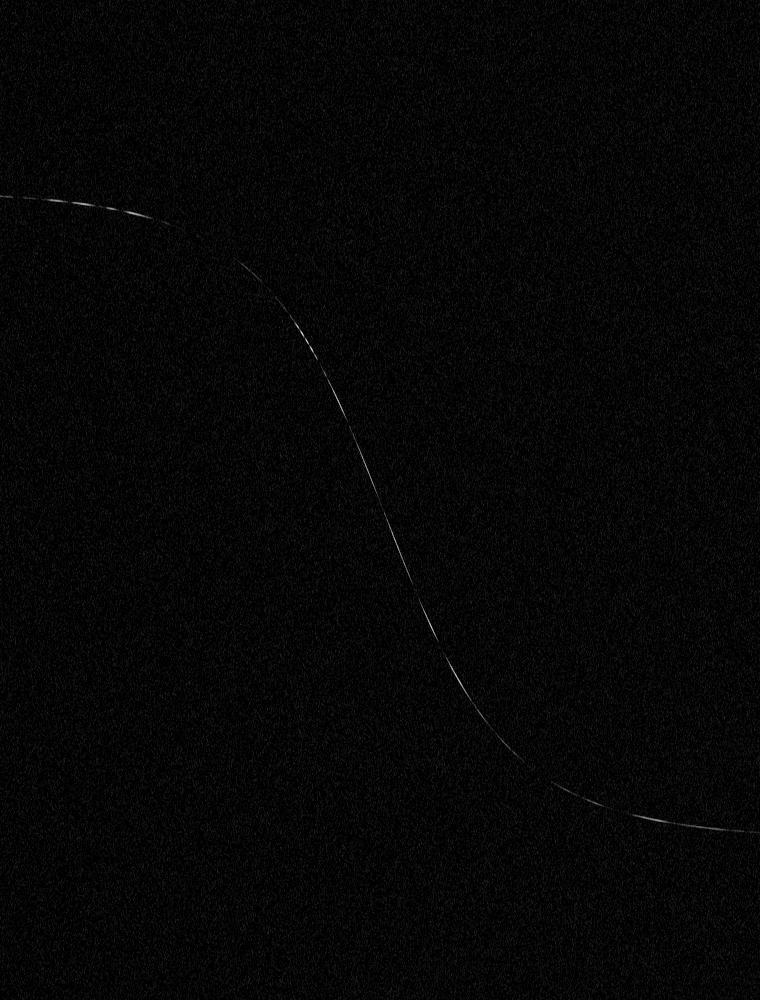signal: (0, 0, 759, 999)
